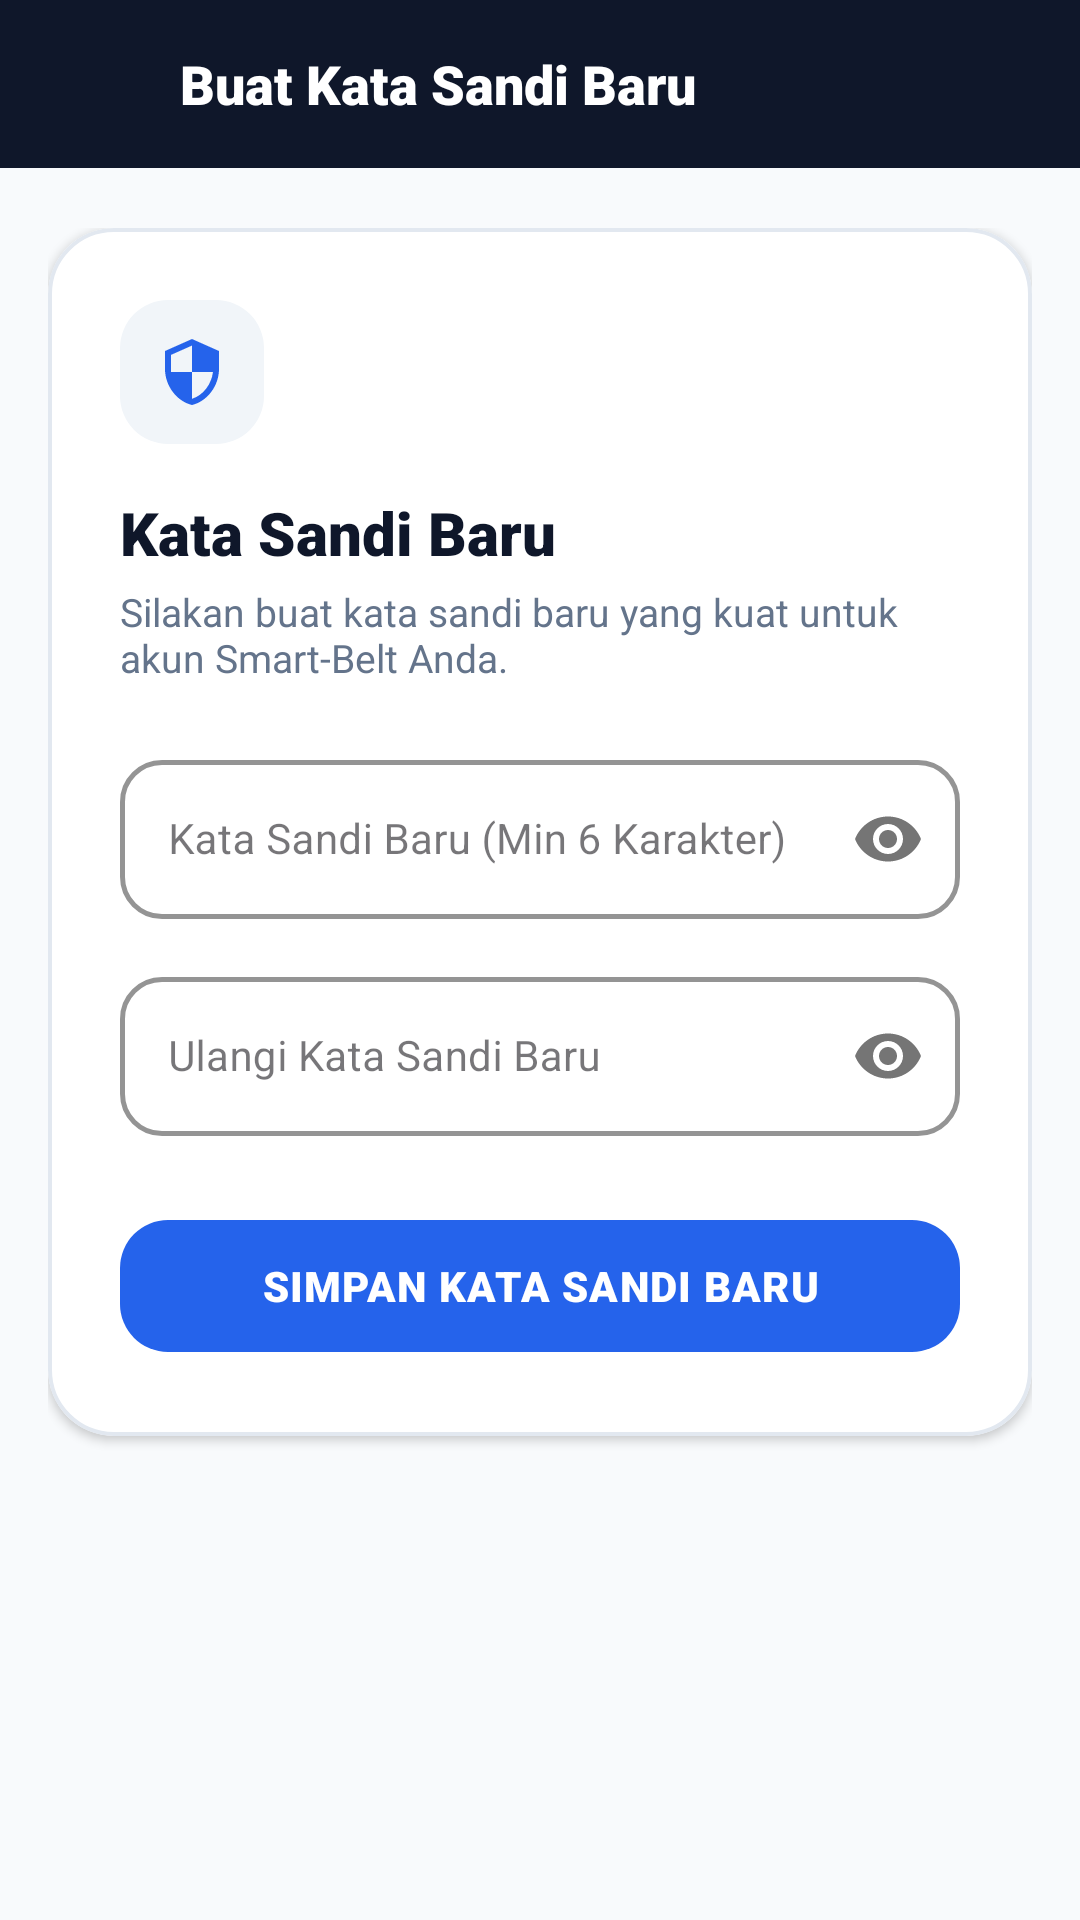

Where icons sit on this 1080px×1920px app screen, as box=[x1, y1, x2, y2]:
shield: box=[165, 339, 219, 405]
